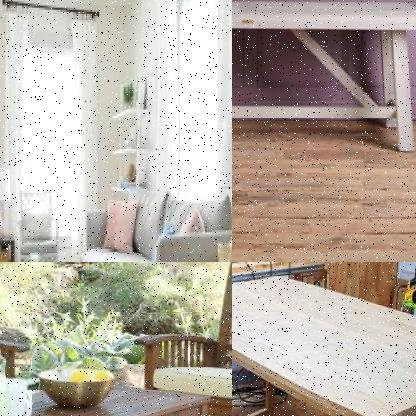table: (232, 0, 415, 156), (232, 272, 415, 415), (0, 371, 216, 415)
